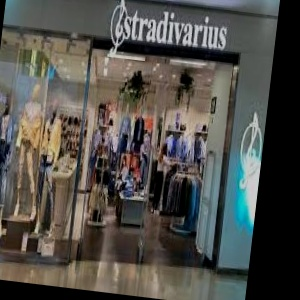stradivarius: (179, 0, 280, 18)
